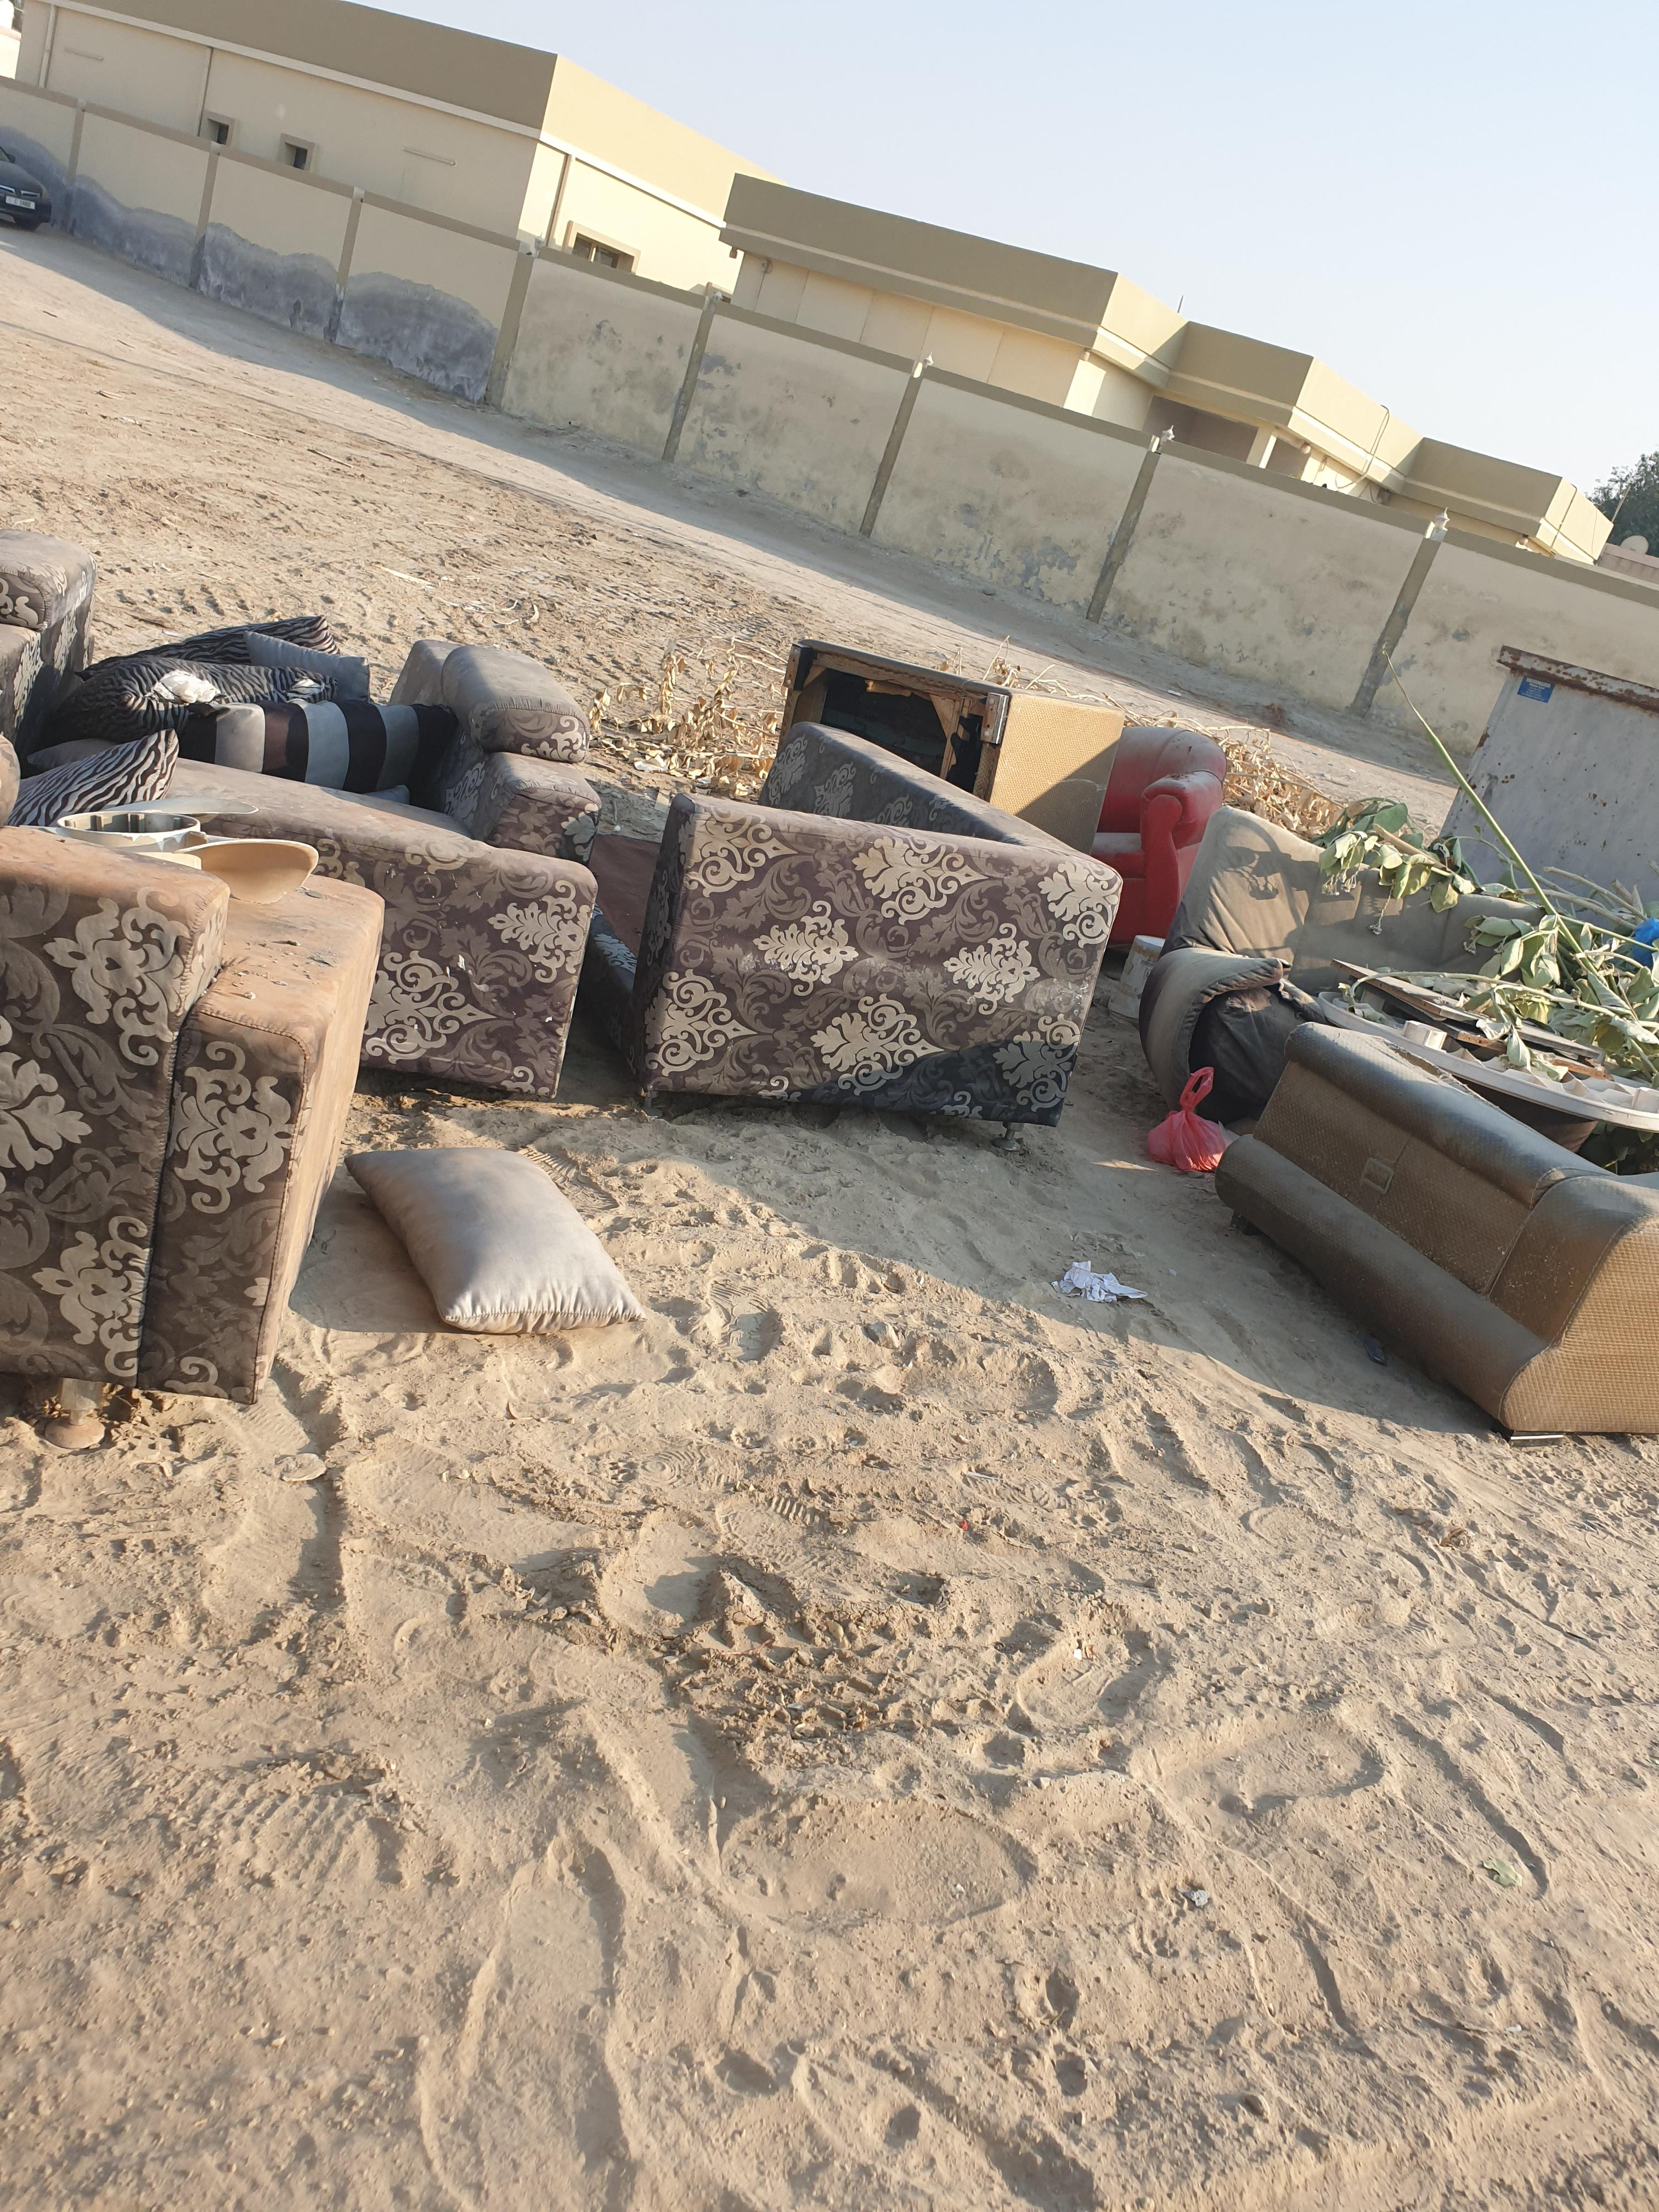uncollected_waste: (24, 474, 1232, 1505), (160, 575, 1148, 1332), (676, 712, 1307, 1205)
